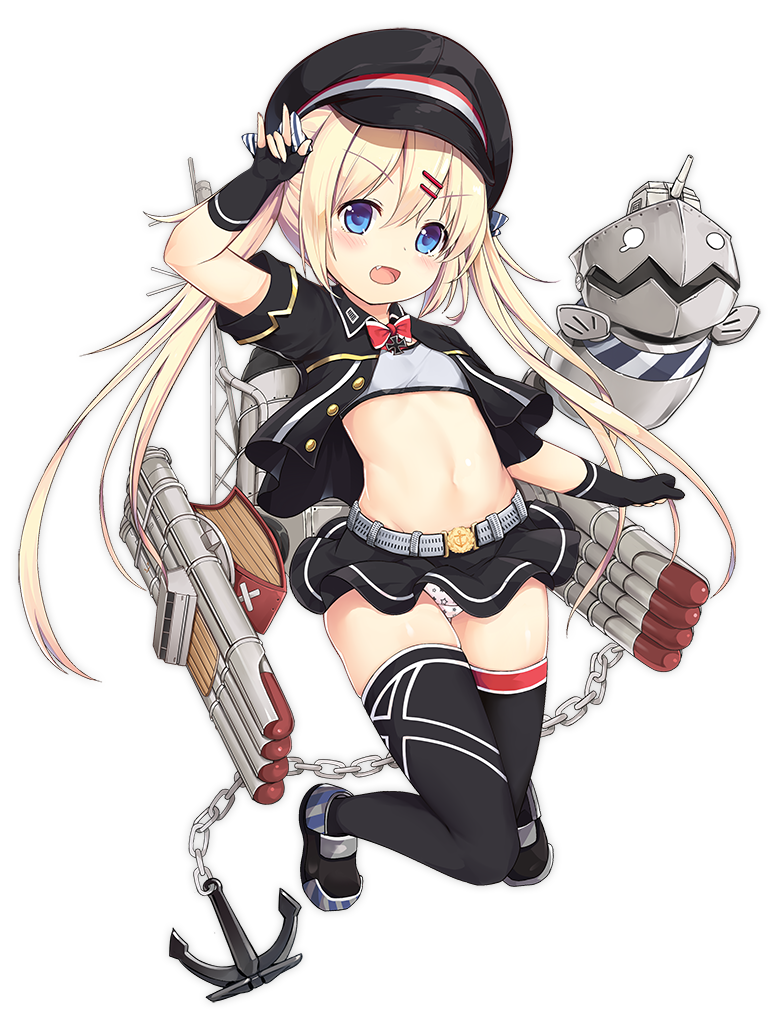person: (47, 22, 771, 925)
